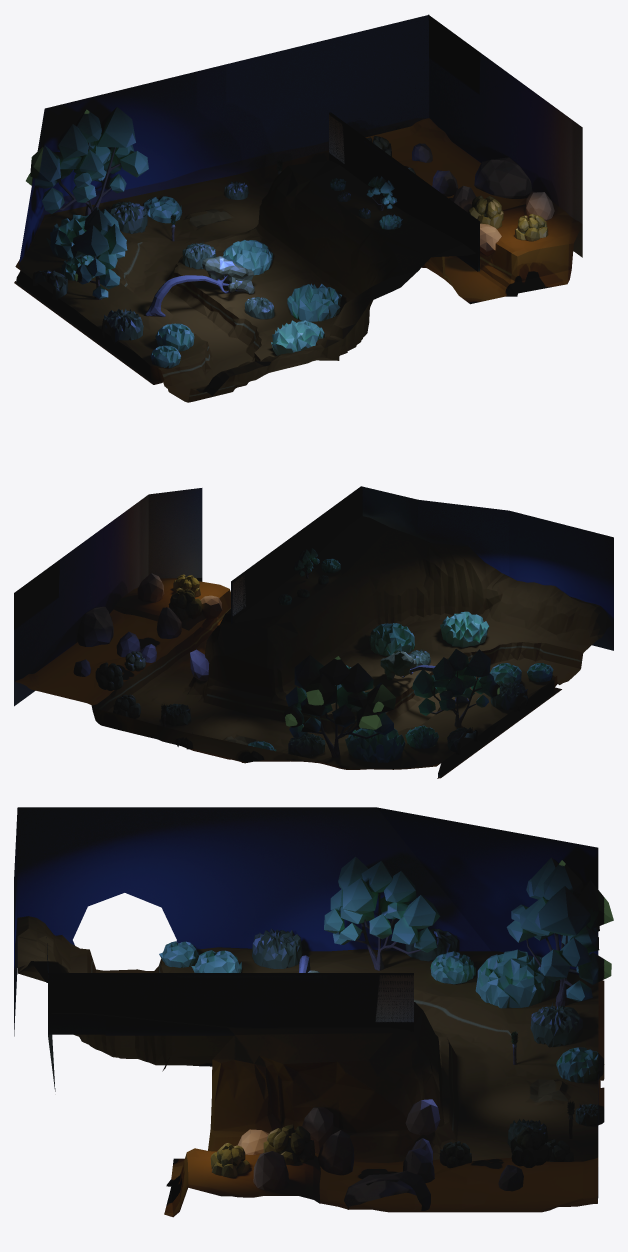
3 views of the same model, one above another, from view 1: azimuth 30°, elevation 25°; view 2: azimuth 150°, elevation 25°; view 3: azimuth 270°, elevation 25° (orthographic). The views are drawn at different scales.
Parts seen in each view (by area): view 1: Land.scene2.new; view 2: Land.scene2.new; view 3: Land.scene2.new.
Part boxes in pixels (left/top/right/bottom): Land.scene2.new: left=14, top=14, right=582, bottom=402; Land.scene2.new: left=14, top=486, right=613, bottom=778; Land.scene2.new: left=14, top=807, right=613, bottom=1217.
Bounding box in the file's own units: 36.76 × 10.55 × 34.01.
Materials: 9 (9 with a texture image).
